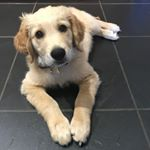puppy: (9, 4, 127, 150)
